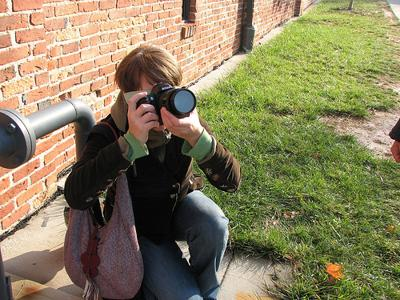person: (65, 45, 243, 299)
